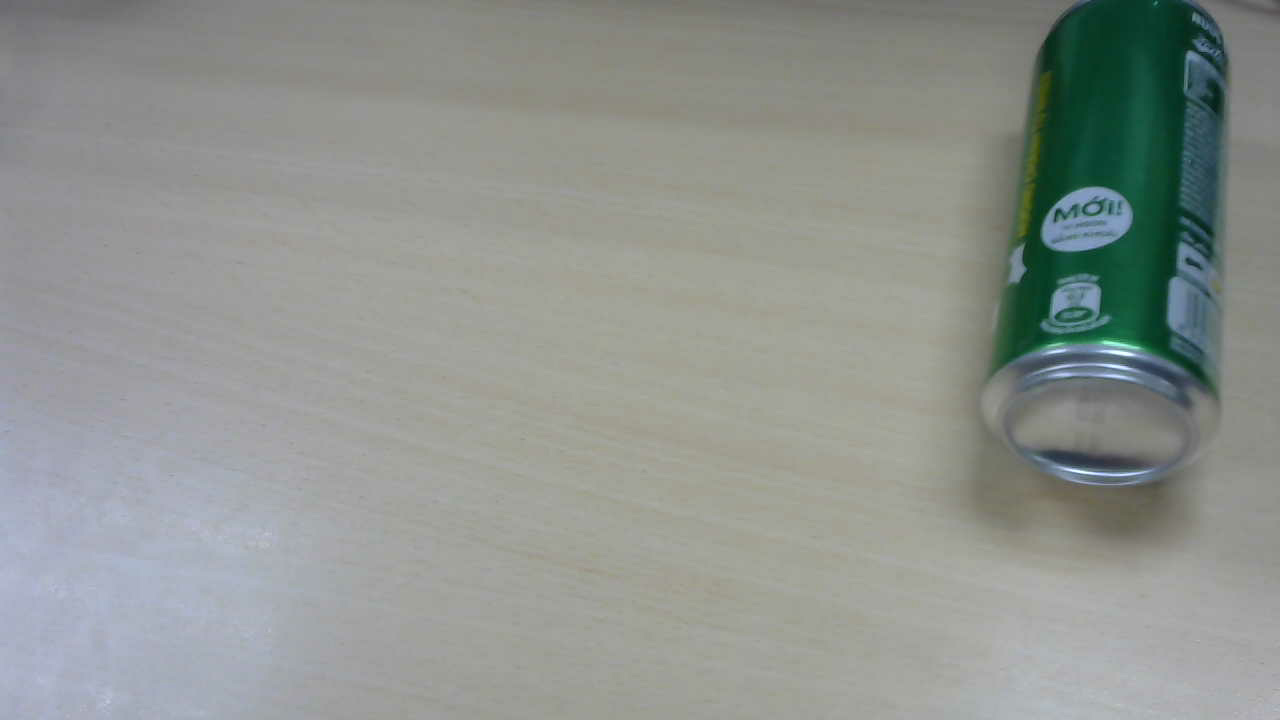Sprite: (978, 6, 1238, 494)
